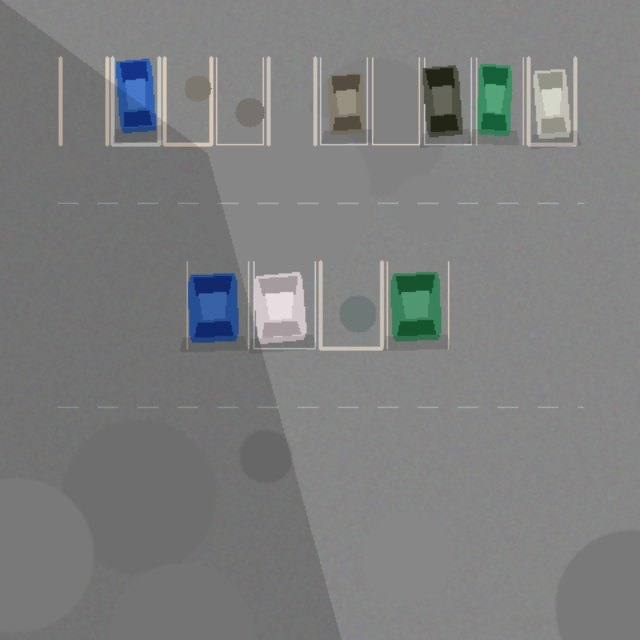space-empty: (320, 261, 381, 348), (60, 57, 107, 144), (164, 57, 211, 144), (216, 57, 263, 144), (268, 57, 315, 144), (372, 57, 419, 144)
space-occupied: (253, 261, 315, 348), (187, 261, 248, 348), (387, 261, 448, 348), (112, 57, 159, 144), (320, 57, 367, 144), (424, 57, 471, 144), (476, 57, 523, 144), (528, 57, 575, 144)
